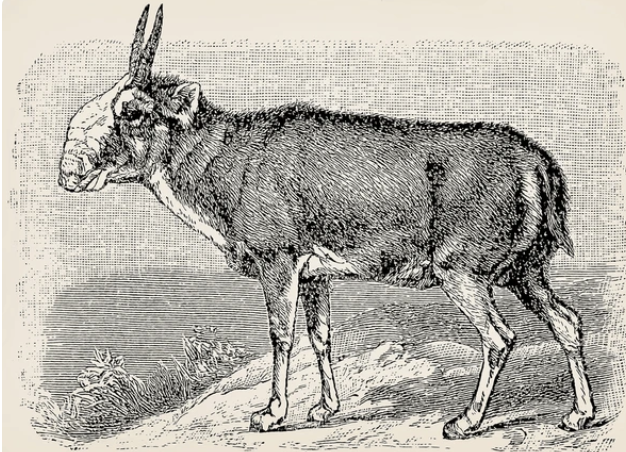saiga: (57, 9, 603, 437)
